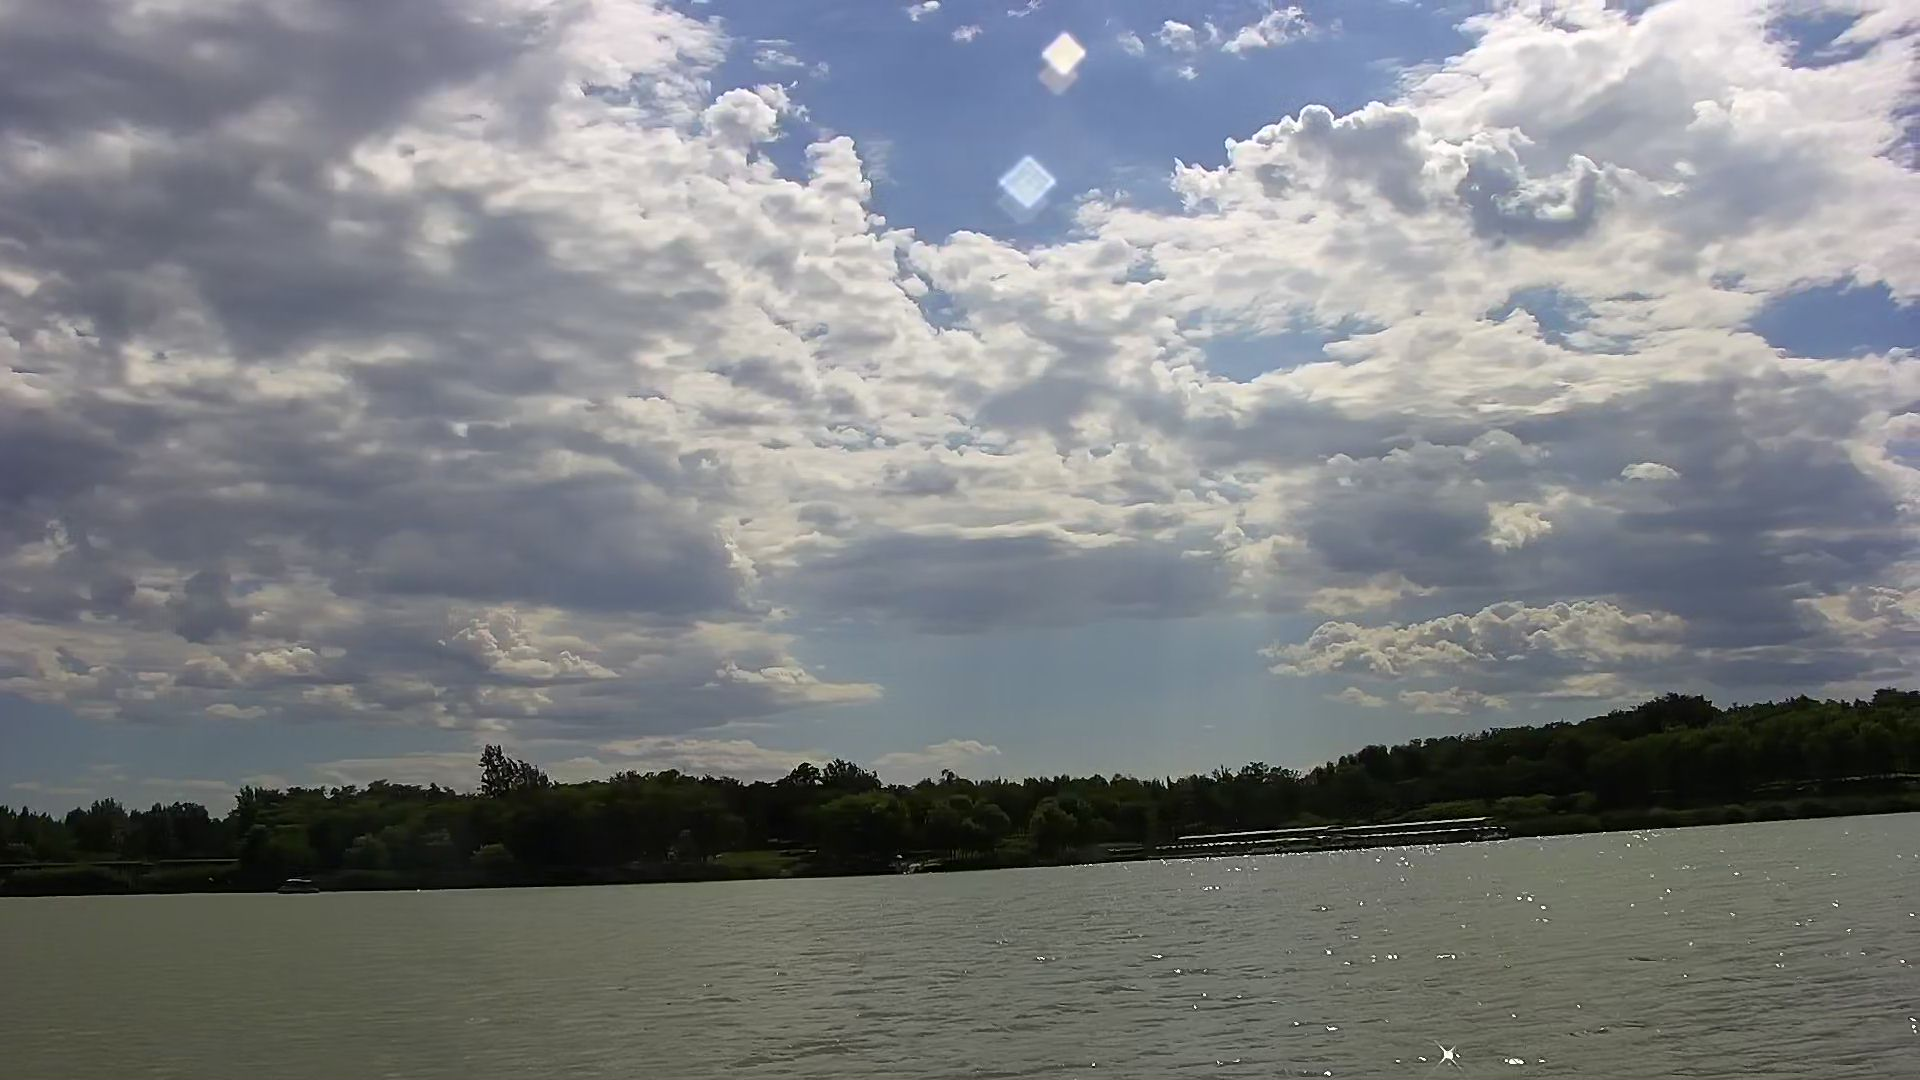harbor: (1156, 816, 1520, 862)
